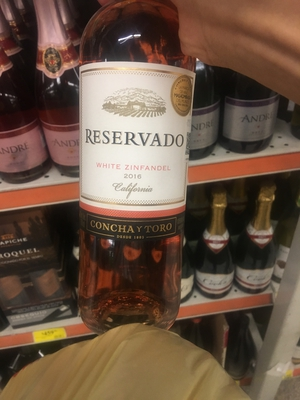reservado white zinfandel: (76, 5, 198, 345)
